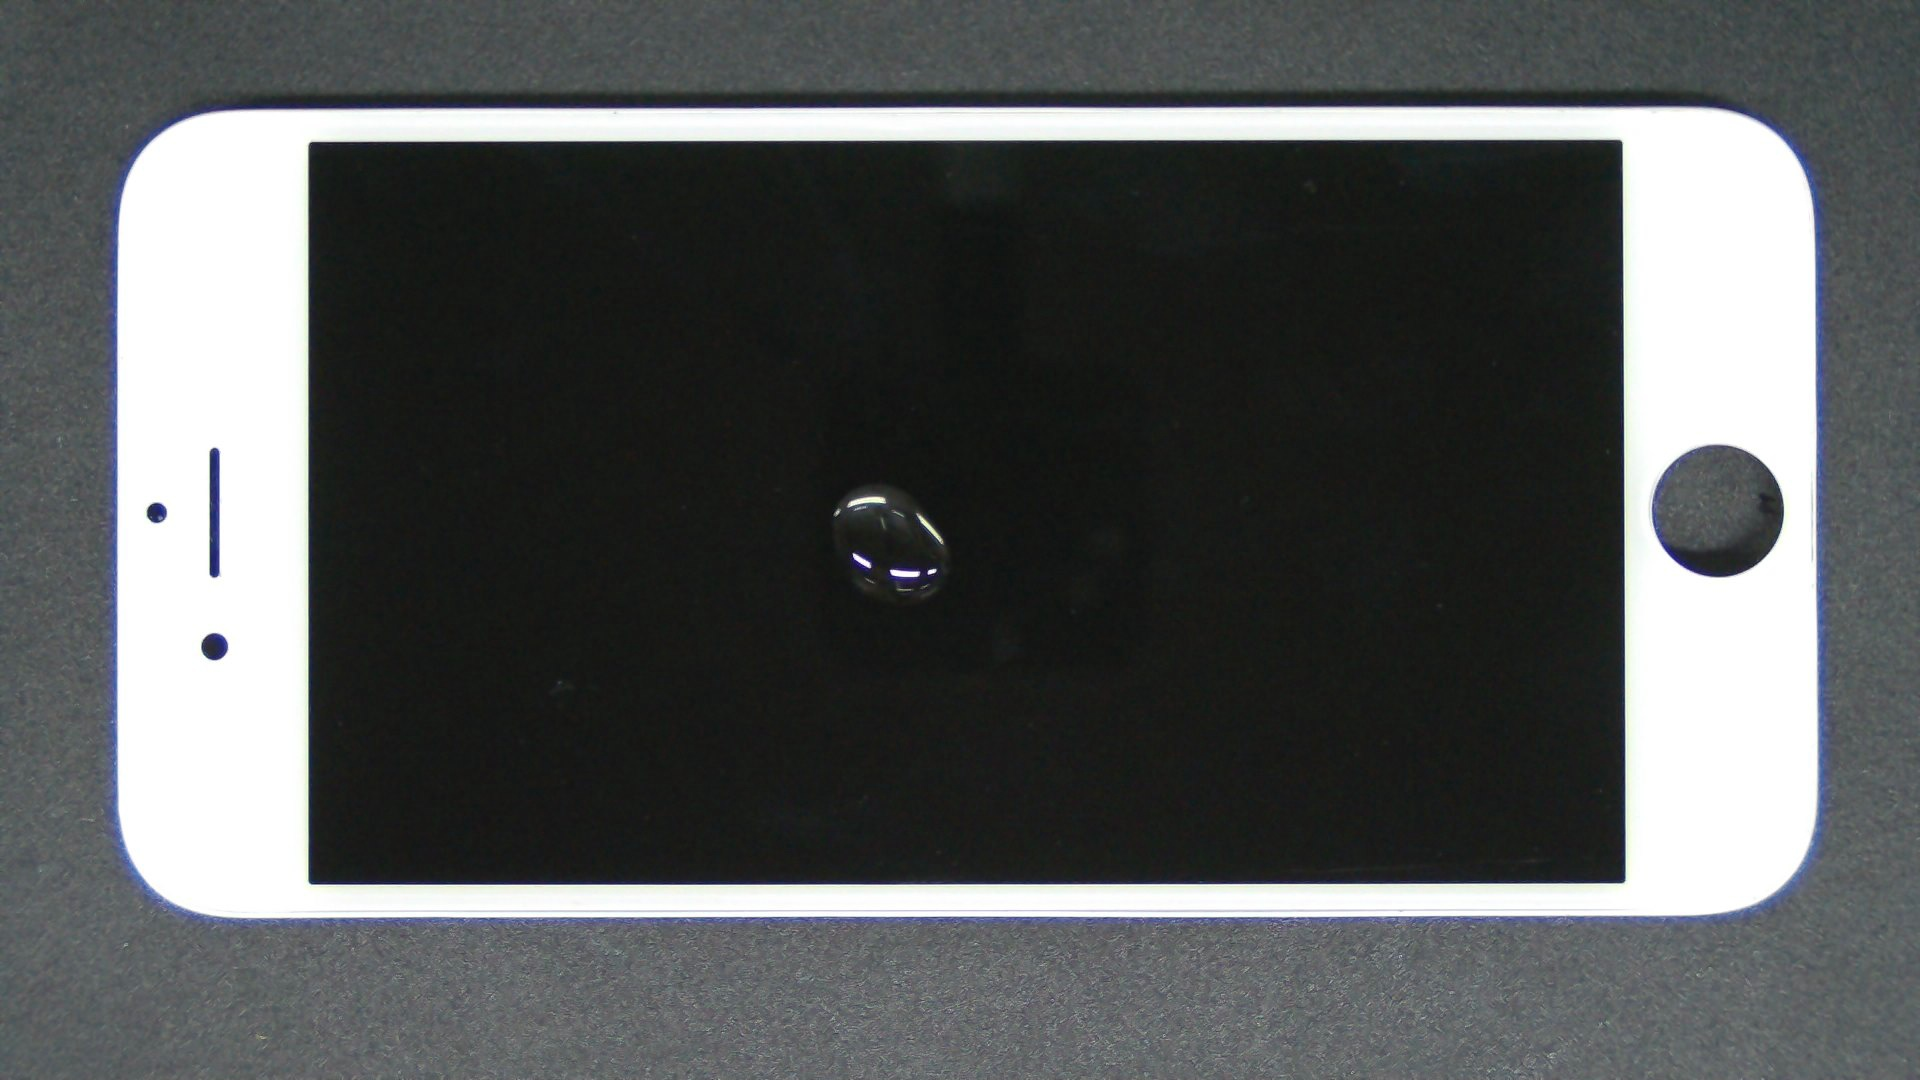oil: (436, 243, 1309, 728)
